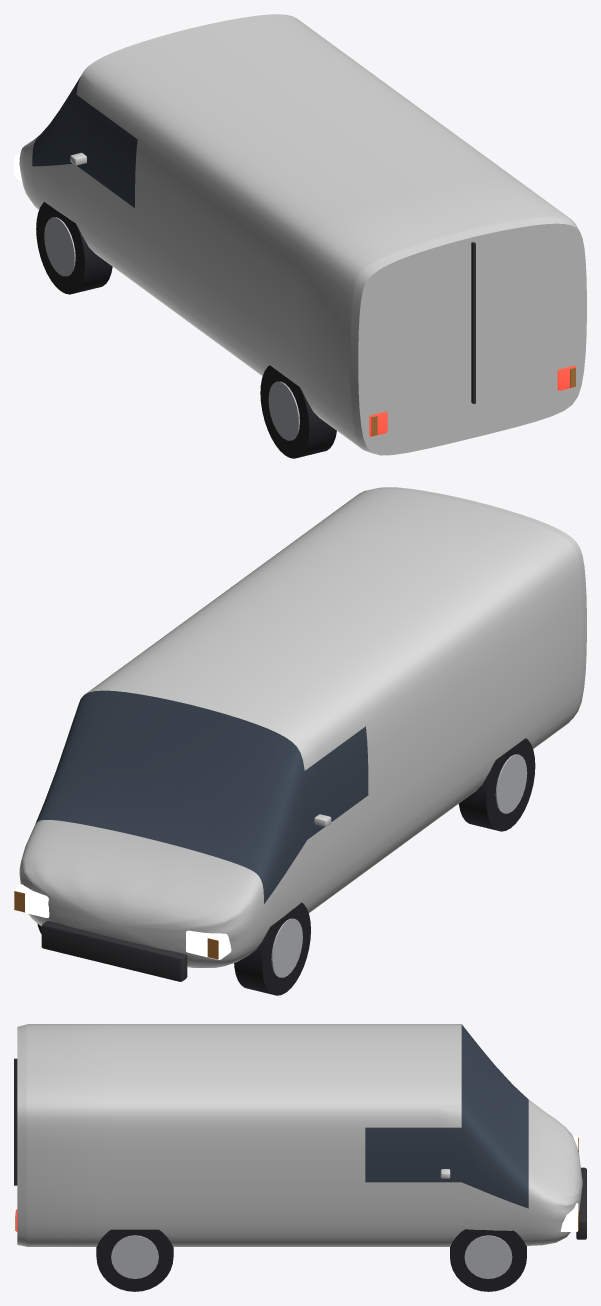
Rendered from auto_freq_van_lod0.glb.
3 renders of one model, top to bottom at view 1: azimuth 30°, elevation 25°; view 2: azimuth 150°, elevation 25°; view 3: azimuth 270°, elevation 25°, orthographic. The views are drawn at different scales.
Parts seen in each view (by area): view 1: Karosserie, Rad_HL, Rad_VL; view 2: Karosserie, Rad_VL, Rad_HL; view 3: Karosserie, Rad_HR, Rad_VR.
Part boxes in pixels (bbox=[...]): Karosserie: bbox=[14, 14, 586, 455]; Rad_HL: bbox=[260, 365, 336, 458]; Rad_VL: bbox=[36, 202, 112, 294]; Karosserie: bbox=[14, 487, 586, 981]; Rad_VL: bbox=[234, 902, 310, 995]; Rad_HL: bbox=[459, 738, 535, 831]; Karosserie: bbox=[14, 1024, 586, 1246]; Rad_HR: bbox=[96, 1229, 173, 1291]; Rad_VR: bbox=[450, 1229, 526, 1291].
Bounding box in the file's own units: 2.18 × 2.01 × 5.35.
